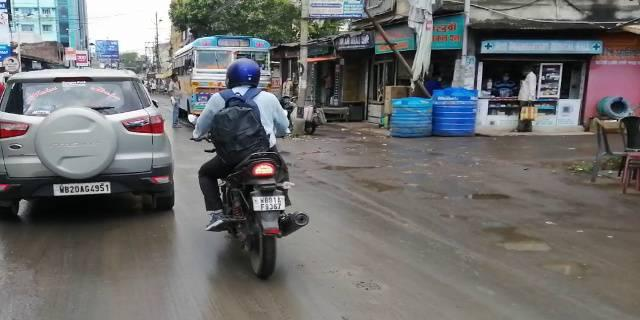Bus: (165, 30, 273, 121)
Car: (1, 63, 177, 215)
Motorbike: (191, 63, 314, 279)
